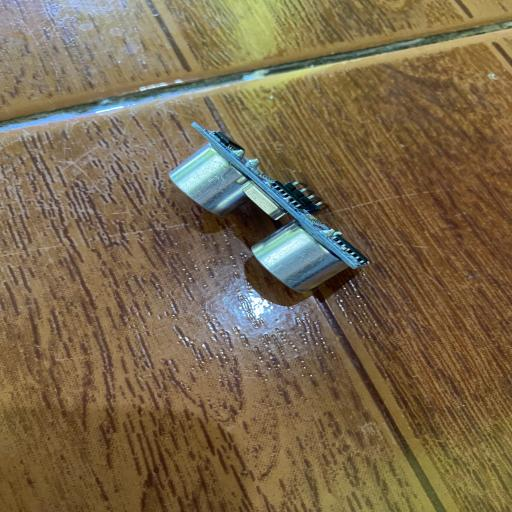Ultrasonic Sensor: (168, 120, 371, 296)
